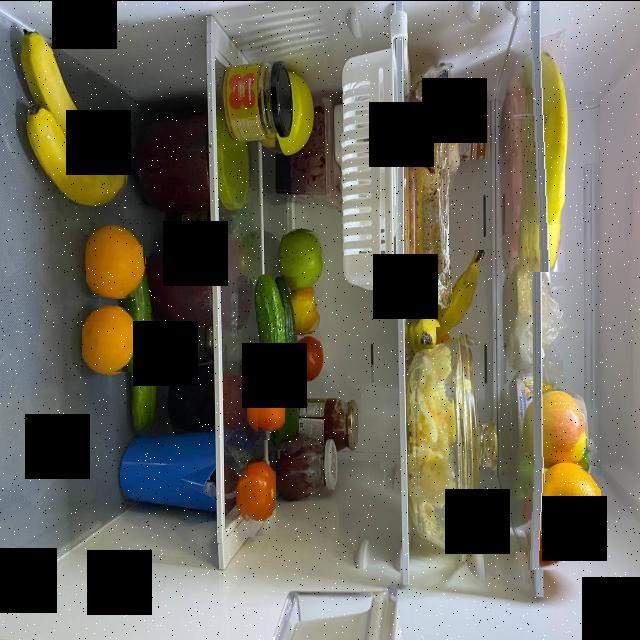Apple: (530, 389, 583, 468), (281, 229, 328, 287), (289, 288, 320, 334)
Banana: (16, 20, 128, 212), (521, 46, 565, 272), (407, 250, 489, 350)
Cucumber: (256, 275, 285, 441), (134, 246, 155, 444), (282, 277, 297, 447)
Orange: (542, 454, 601, 554), (86, 222, 147, 298), (82, 300, 139, 374), (436, 327, 460, 349)
Tomato: (240, 458, 276, 538), (528, 482, 559, 570), (247, 370, 285, 432), (296, 334, 326, 386)
